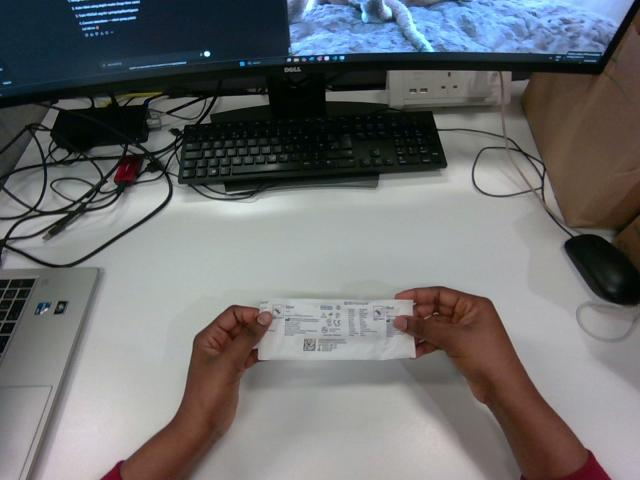syringe: (258, 299, 415, 359)
